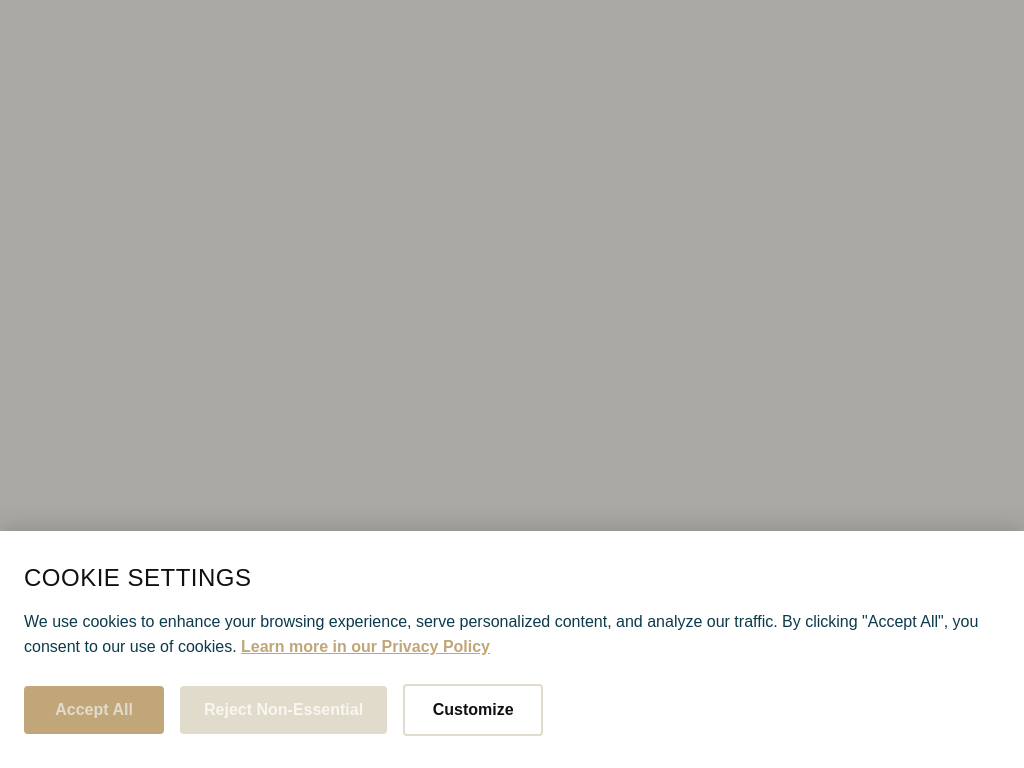
Scenario: CookieConsent › Customize Functionality › returns to simple view when "Back" is clicked
Expected: the dialog is shown, [0,531,1023,767]
Click the button with aria-label "Customize cookie settings".
click(473, 710)  # box [403,684,543,736]
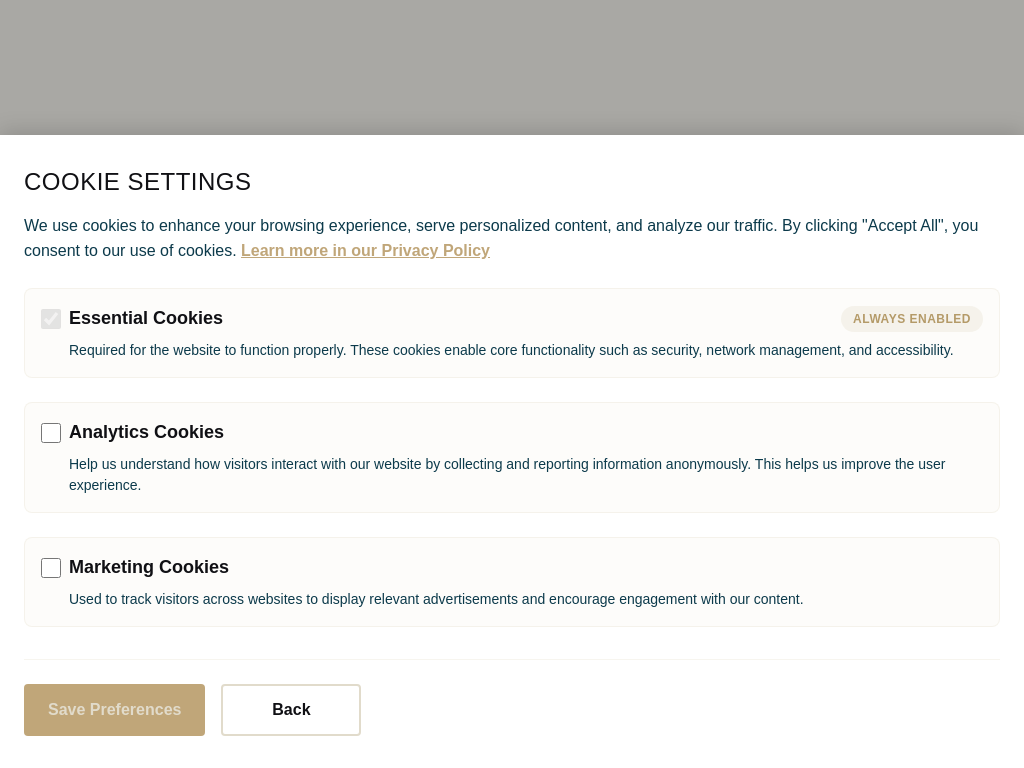
Expected: the text "Essential Cookies" is shown, [69,308,223,328]
Click the button with aria-label "Go back to simple choice".
click(291, 710)  # box [221,684,361,736]
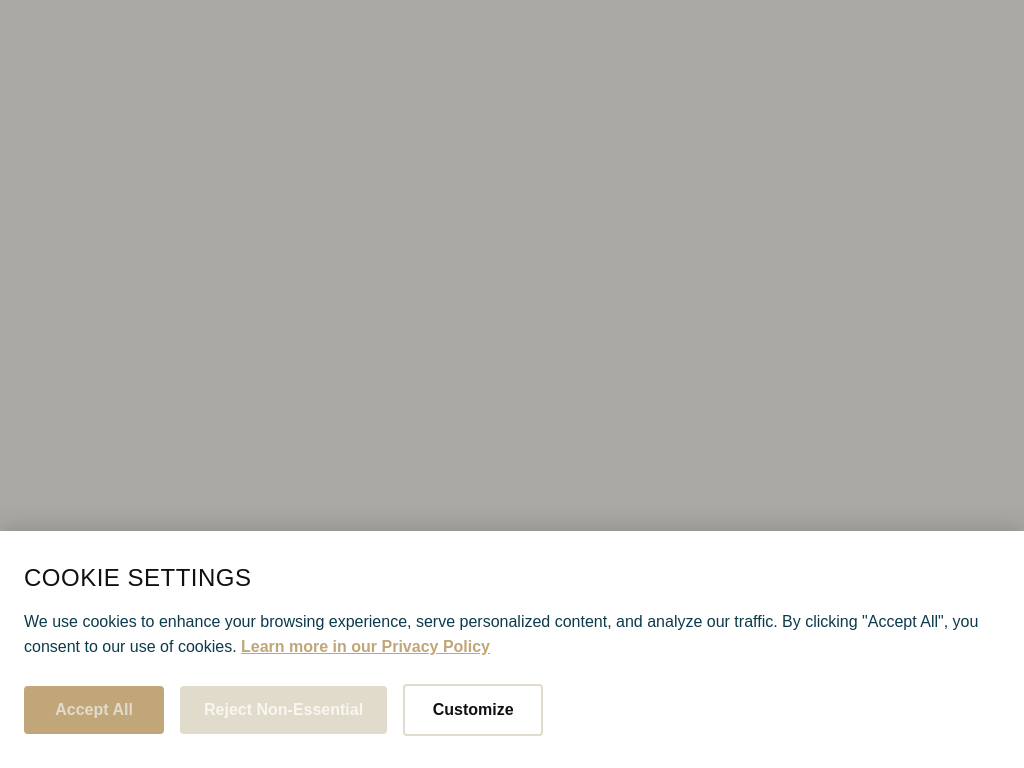
Expected: the text "Essential Cookies" is gone
Expected: the button with aria-label "Accept all cookies" is shown, [24,686,164,734]
